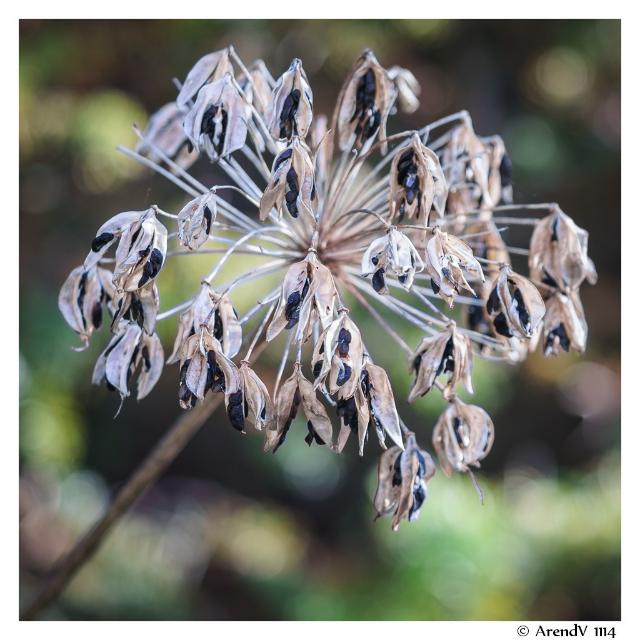Flower: (382, 438, 448, 530)
